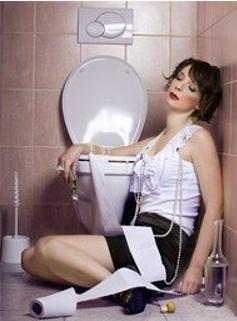Drunk: (164, 68, 199, 107)
